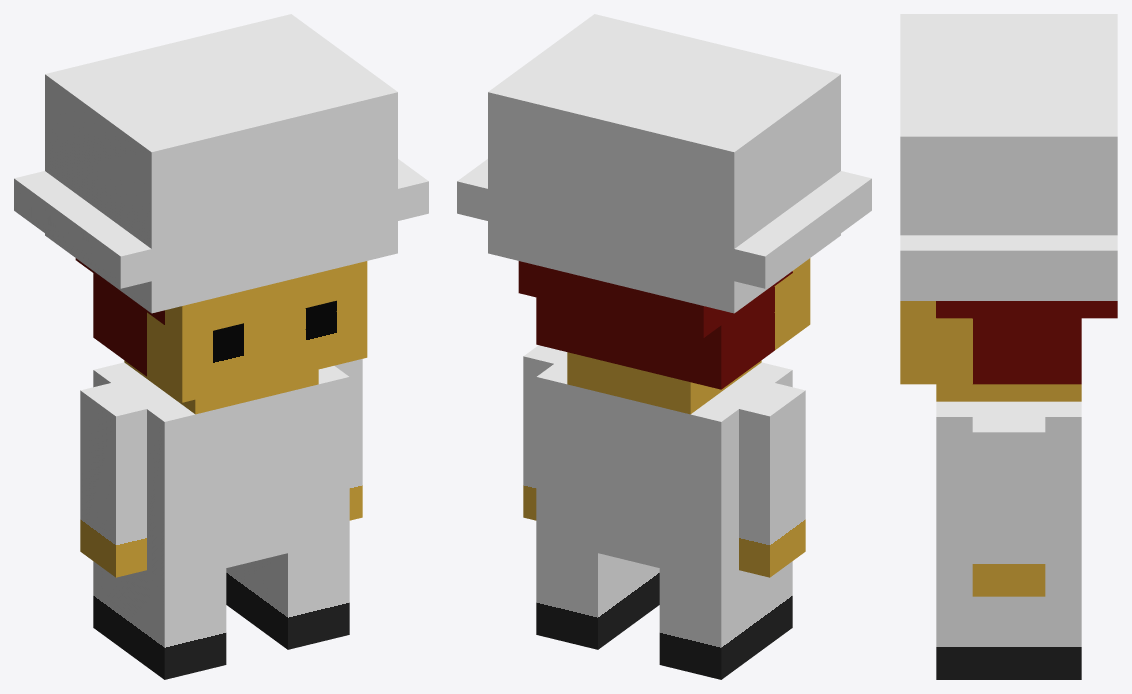
Rendered from Chef.fbx.
3 views of the same model, side by side, from view 1: azimuth 30°, elevation 25°; view 2: azimuth 150°, elevation 25°; view 3: azimuth 270°, elevation 25° (orthographic).
Visible parts, largest first — view 1: Chef; view 2: Chef; view 3: Chef.
Part boxes in pixels (left/top/right/bottom): Chef: left=14, top=14, right=428, bottom=679; Chef: left=457, top=14, right=871, bottom=679; Chef: left=900, top=14, right=1117, bottom=679.
Size of the model in its own units: 10 by 17 by 6.
1 material, 1 textured.
